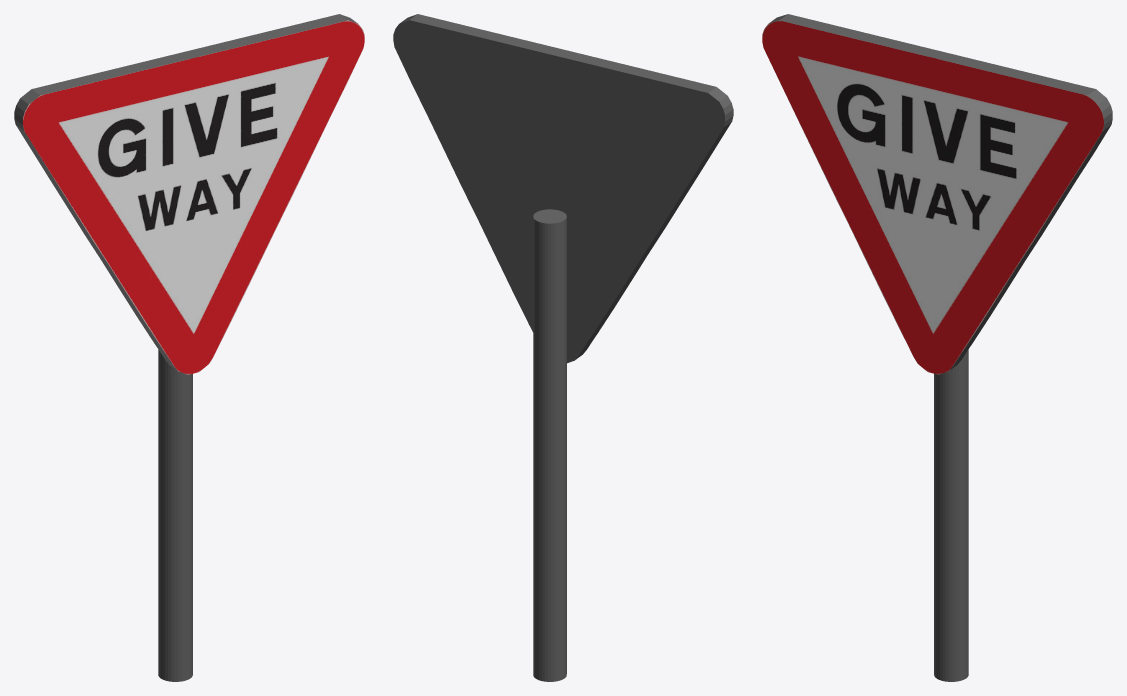
The model's file is SignGivingOrderGiveWay.obj.
The picture shows the model from 3 angles, left to right: view 1: azimuth 30°, elevation 25°; view 2: azimuth 150°, elevation 25°; view 3: azimuth 330°, elevation 25°; orthographic projection. The views are drawn at different scales.
Visible parts, largest first — view 1: Cube, Cylinder.001; view 2: Cube, Cylinder.001; view 3: Cube, Cylinder.001.
Boxes of the visible parts, <box> form: Cube: <box>14,14,364,374</box>; Cylinder.001: <box>158,349,192,681</box>; Cube: <box>393,14,733,363</box>; Cylinder.001: <box>533,209,566,681</box>; Cube: <box>762,14,1112,374</box>; Cylinder.001: <box>934,349,968,681</box>.
Bounding box in the file's own units: 1.14 × 2 × 0.155.
3 materials, 1 textured.
